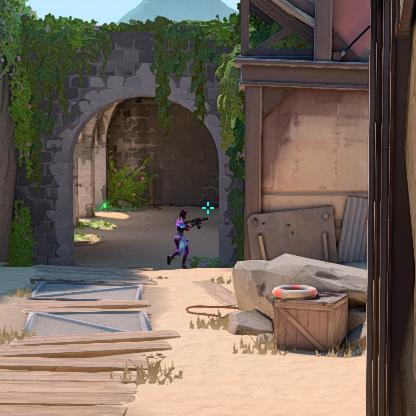enemyBody: (177, 220, 184, 234)
enemyHead: (180, 210, 186, 219)
